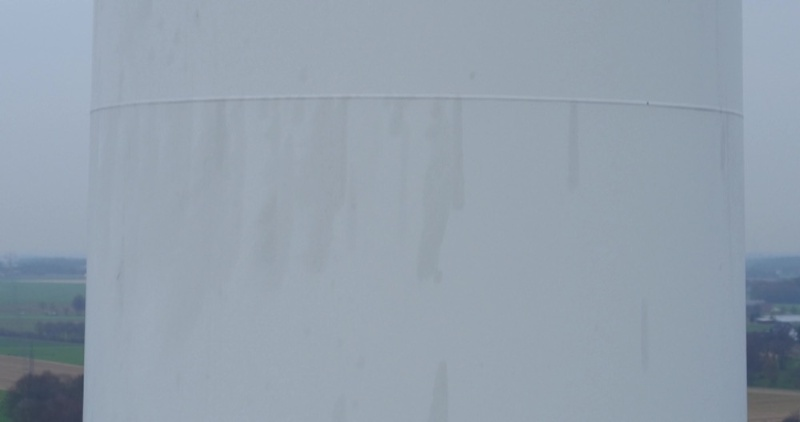weldseam: (90, 91, 748, 122)
